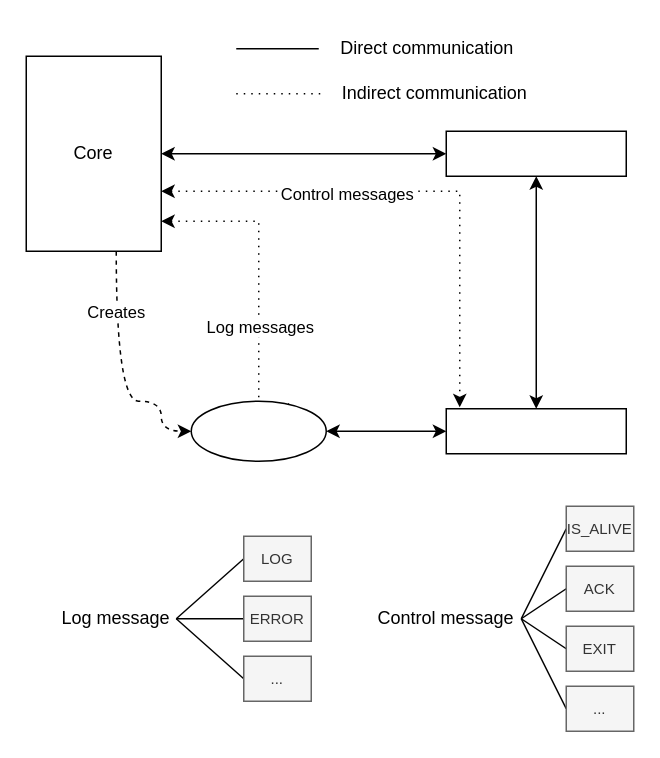
Some shapes in this 660 by 758 pixel diagram are drawn without their labels. Here are the shapes that lost their labels. From the top down, the centre of each, then its label:
At (535,153): "Communication".
At (258,430): "Agent 1".
At (535,430): "Agent client".
